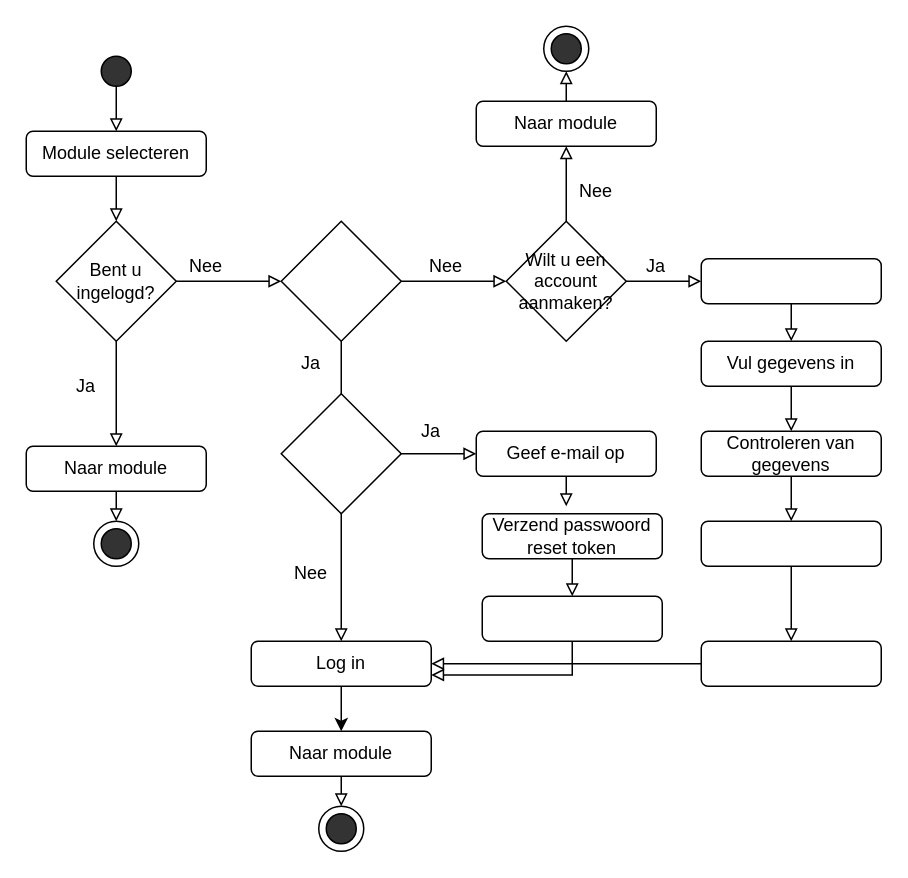
Image size: 908x878. Some labels were removed from this diagram. Here are the shapes that lost their labels. From the top down, the centre of each, then its label:
point (340, 280): Heeft u al een account?
point (790, 280): Druk op registreren
point (340, 453): passwoord vergeten?
point (790, 543): bevestigingsmail verzenden
point (571, 618): reset passwoord
point (790, 663): Bevestigd registratie
